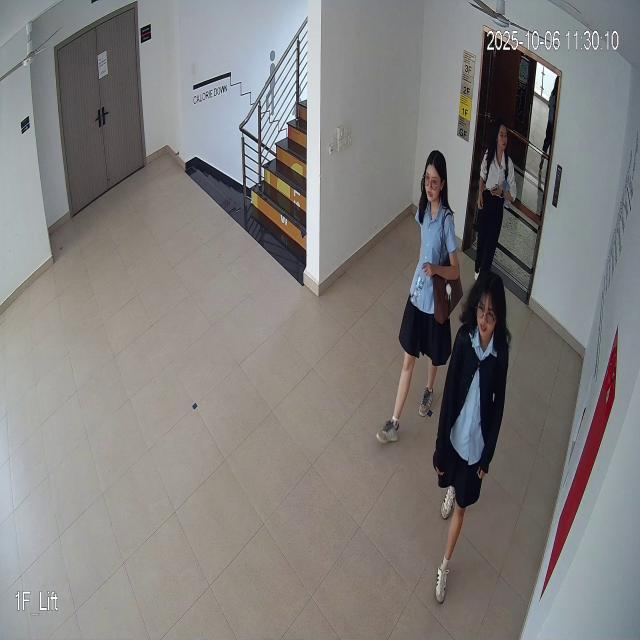face: (469, 263, 507, 345), (421, 144, 453, 214)
